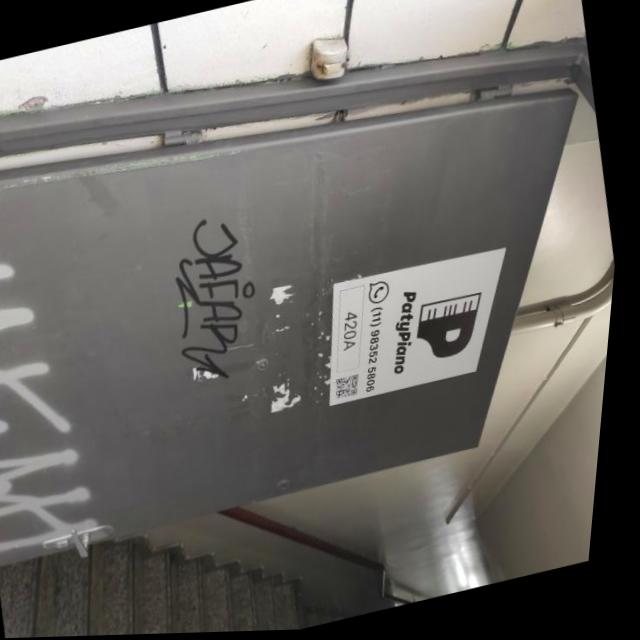qrcode: (339, 377, 369, 402)
